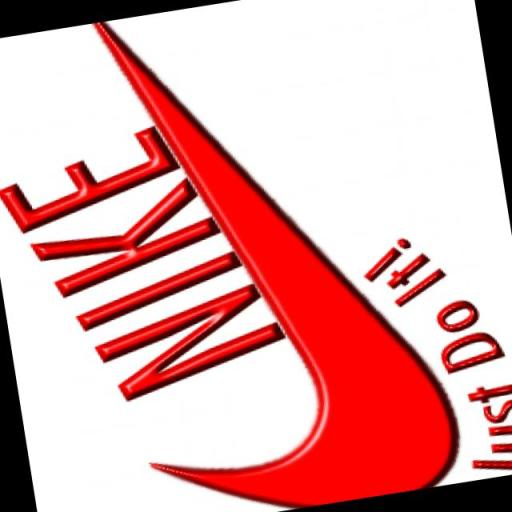Nike: (163, 49, 456, 512)
